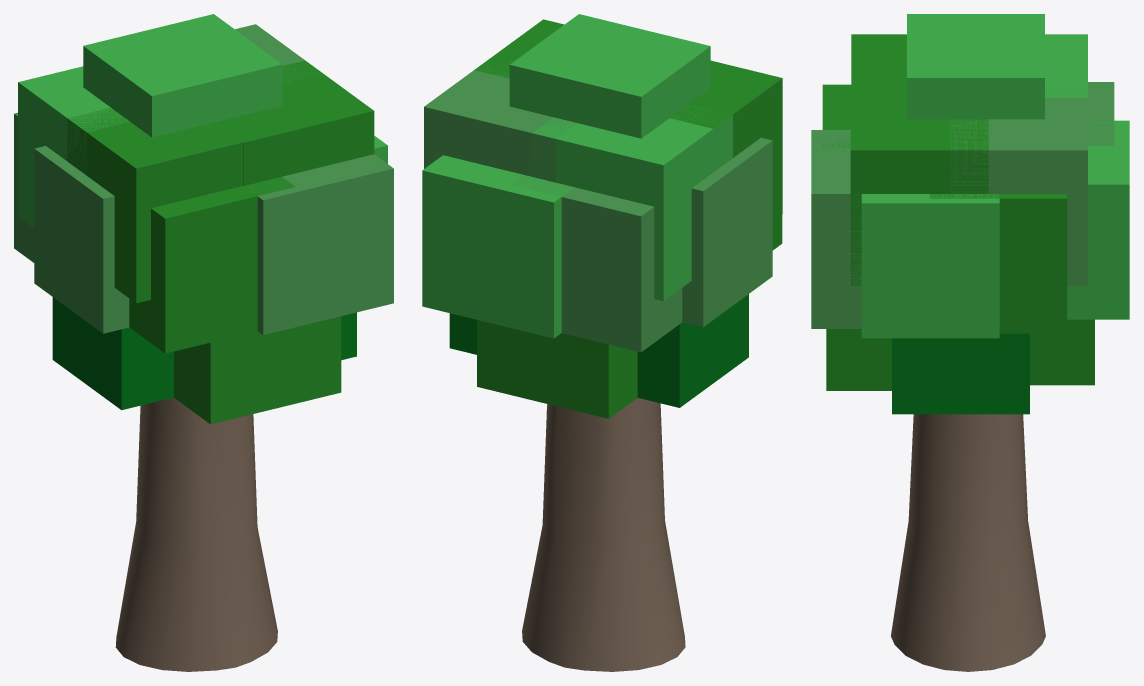
Rendered from tree3.fbx.
3 renders of one model, left to right at view 1: azimuth 30°, elevation 25°; view 2: azimuth 150°, elevation 25°; view 3: azimuth 270°, elevation 25°, orthographic.
Visible parts, largest first — view 1: polySurface2_polySurface5; view 2: polySurface2_polySurface5; view 3: polySurface2_polySurface5.
Boxes of the visible parts, x1=… form: polySurface2_polySurface5: x1=14, y1=14, x2=393, y2=671; polySurface2_polySurface5: x1=422, y1=14, x2=782, y2=671; polySurface2_polySurface5: x1=811, y1=14, x2=1129, y2=671.
Size of the model in its own units: 0.846 by 1.76 by 0.8668.
